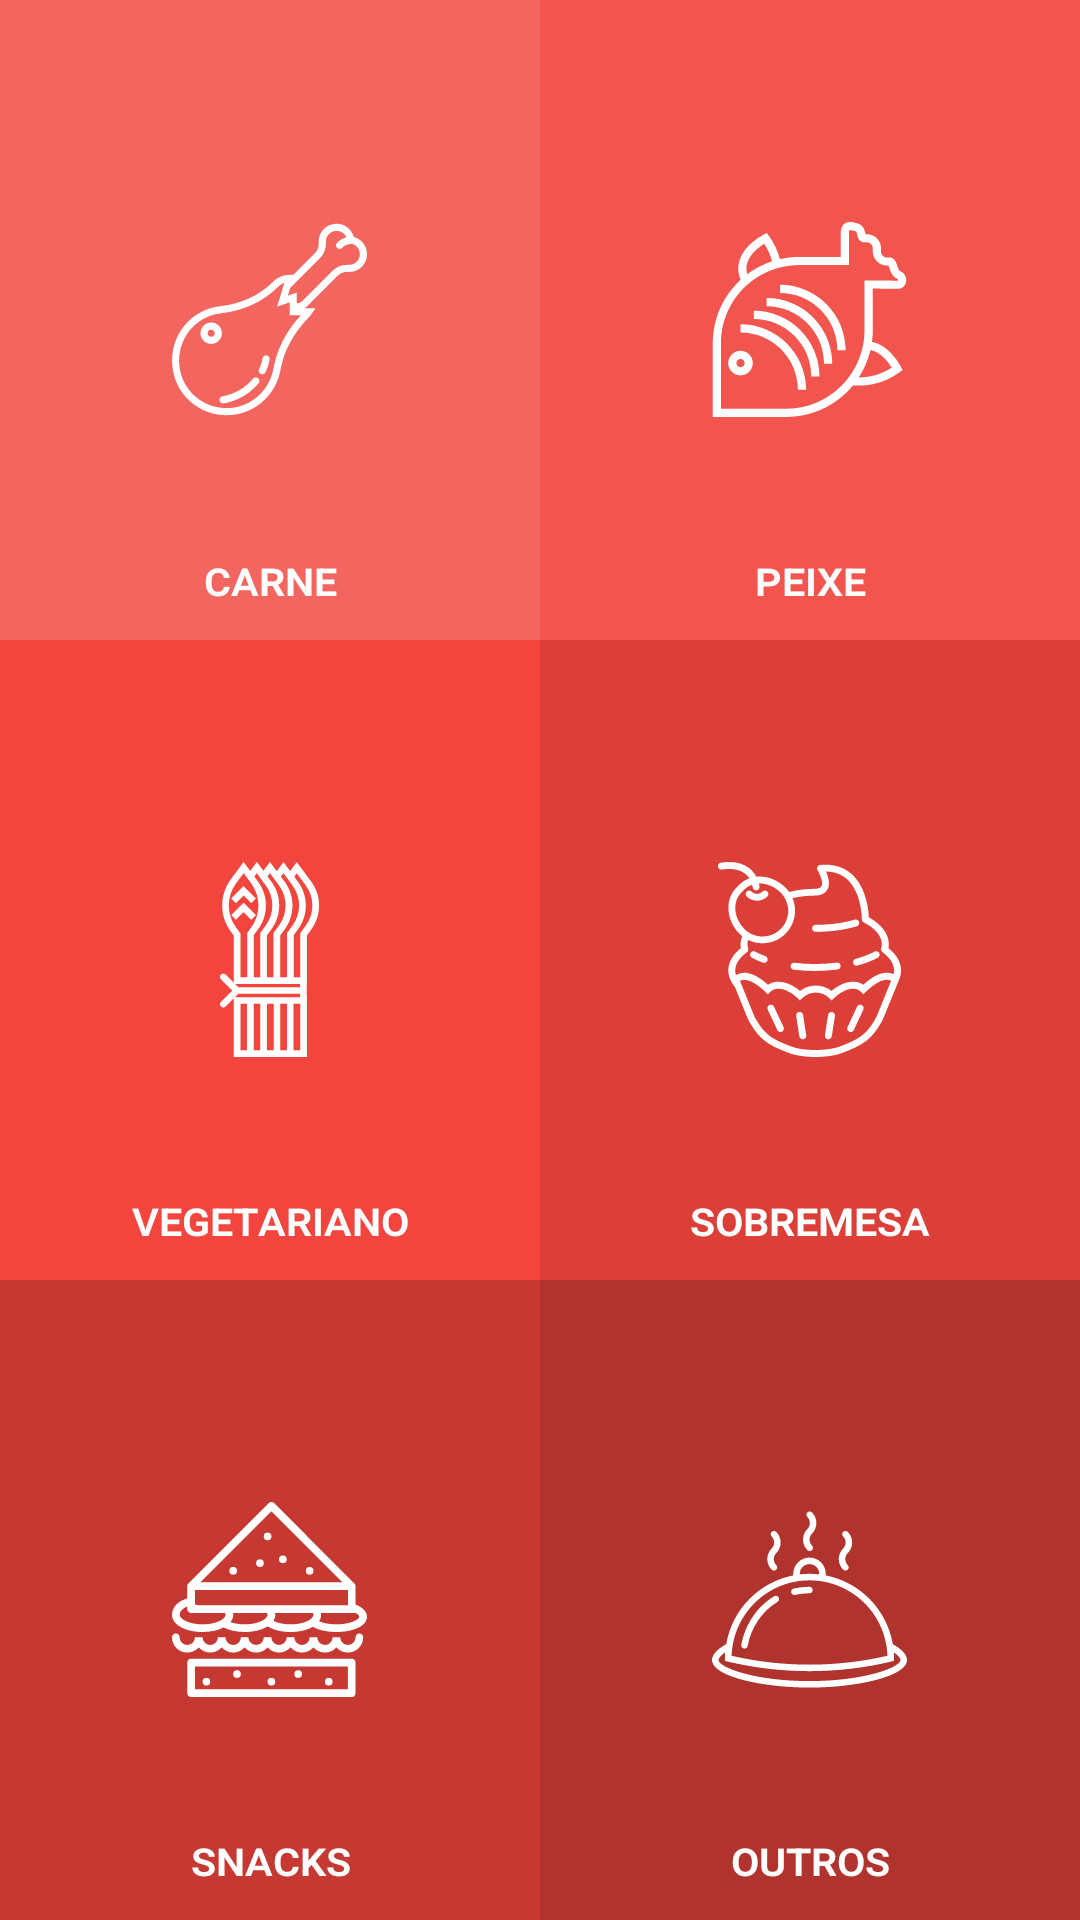

Where icons sit on this 1080*1920 app screen, as {"left": x1, "top": y1, "right": x2, "bottom": y2}:
dessert: {"left": 718, "top": 862, "right": 901, "bottom": 1057}
fish: {"left": 712, "top": 222, "right": 907, "bottom": 417}
meat: {"left": 172, "top": 223, "right": 367, "bottom": 416}
other: {"left": 712, "top": 1511, "right": 907, "bottom": 1688}
vegan: {"left": 220, "top": 862, "right": 319, "bottom": 1057}
